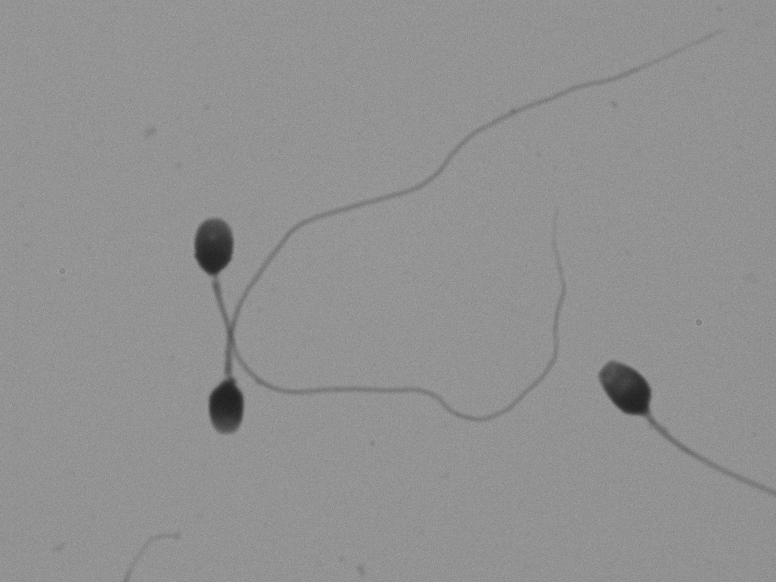Abnormal: (584, 329, 745, 522)
Normal: (184, 201, 582, 439)
